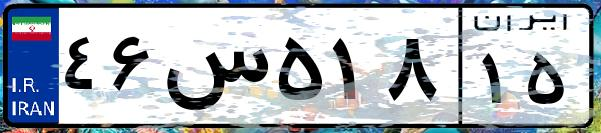1: (330, 28, 385, 110), (475, 38, 525, 113)
4: (57, 26, 110, 100)
5: (270, 28, 330, 110), (525, 38, 570, 115)
6: (110, 28, 158, 98)
8: (385, 28, 445, 110)
س: (158, 20, 270, 120)
